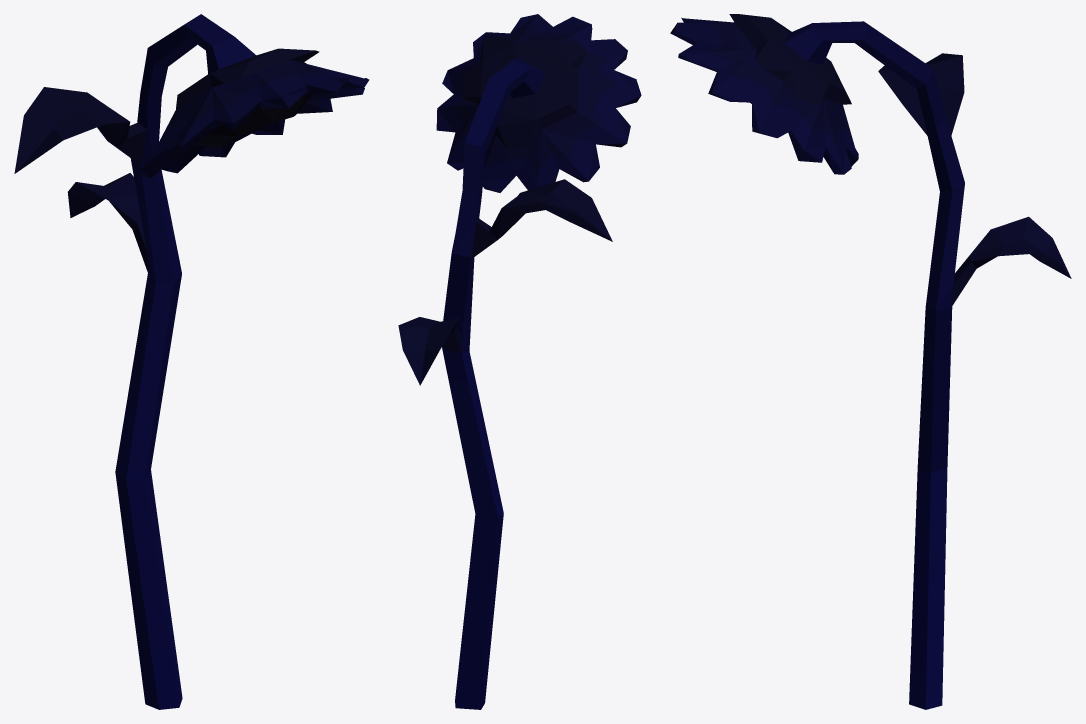
The model's file is SM_Plant_Sunflower_02.glb.
The picture shows the model from 3 angles, left to right: view 1: azimuth 30°, elevation 25°; view 2: azimuth 150°, elevation 25°; view 3: azimuth 270°, elevation 25°; orthographic projection. The views are drawn at different scales.
Parts seen in each view (by area): view 1: SM_Plant_Sunflower_02; view 2: SM_Plant_Sunflower_02; view 3: SM_Plant_Sunflower_02.
Boxes of the visible parts, x1,y1,x2,y2 form: SM_Plant_Sunflower_02: [14, 14, 369, 709]; SM_Plant_Sunflower_02: [398, 14, 641, 709]; SM_Plant_Sunflower_02: [670, 14, 1071, 709].
Size of the model in its own units: 44.4 by 111 by 59.34.
Materials: 1 (1 with a texture image).
